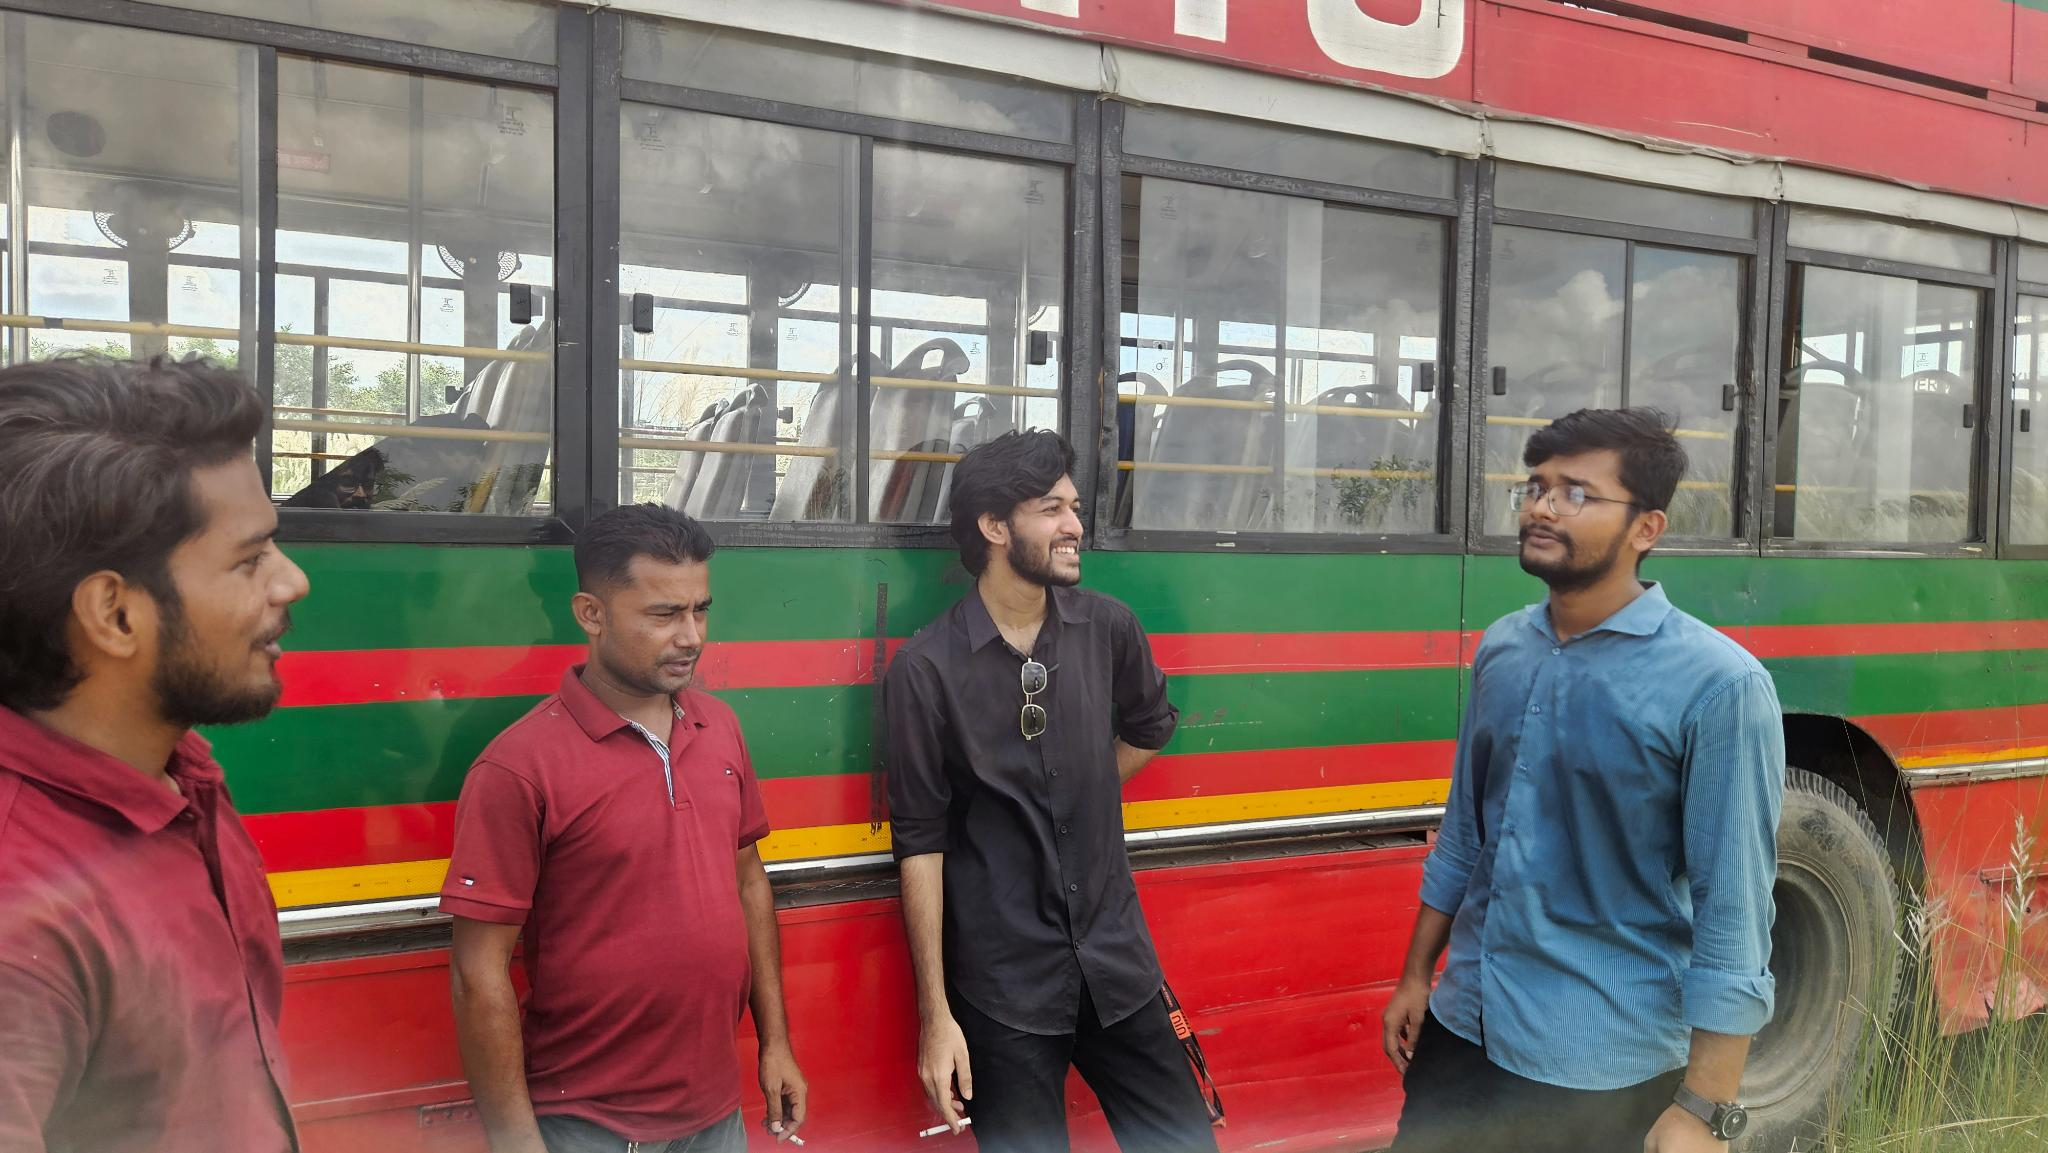cigarette: (917, 1114, 973, 1140), (775, 1126, 807, 1147)
nonSmoker: (1383, 406, 1788, 1153), (0, 353, 318, 1153)
smoker: (882, 432, 1228, 1153), (437, 503, 809, 1153)
